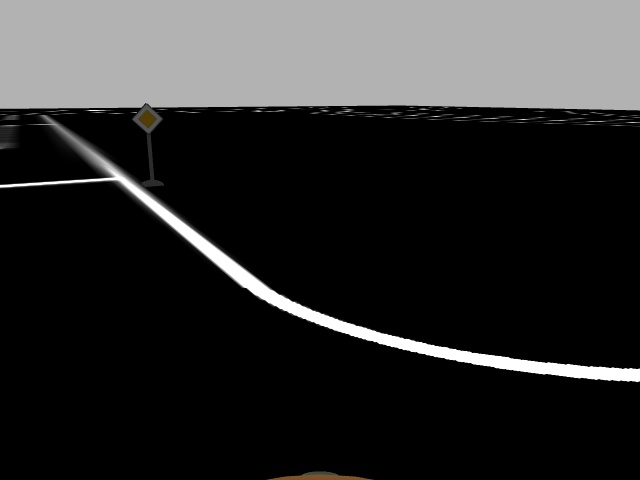priority: (132, 103, 163, 134)
